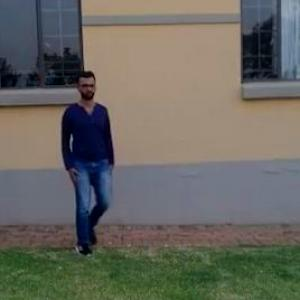follow: (62, 70, 114, 248)
